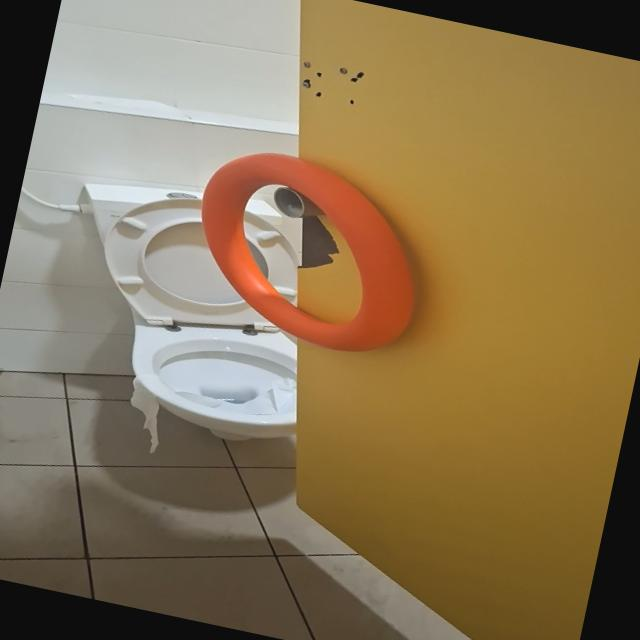note: (174, 137, 442, 365)
